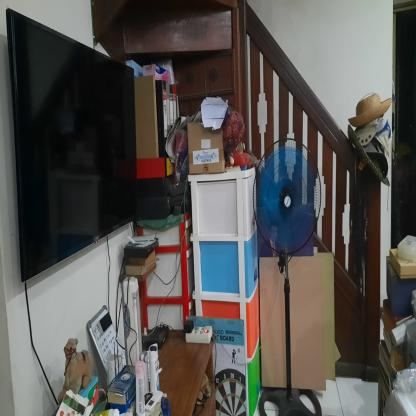tv: (4, 6, 140, 263)
